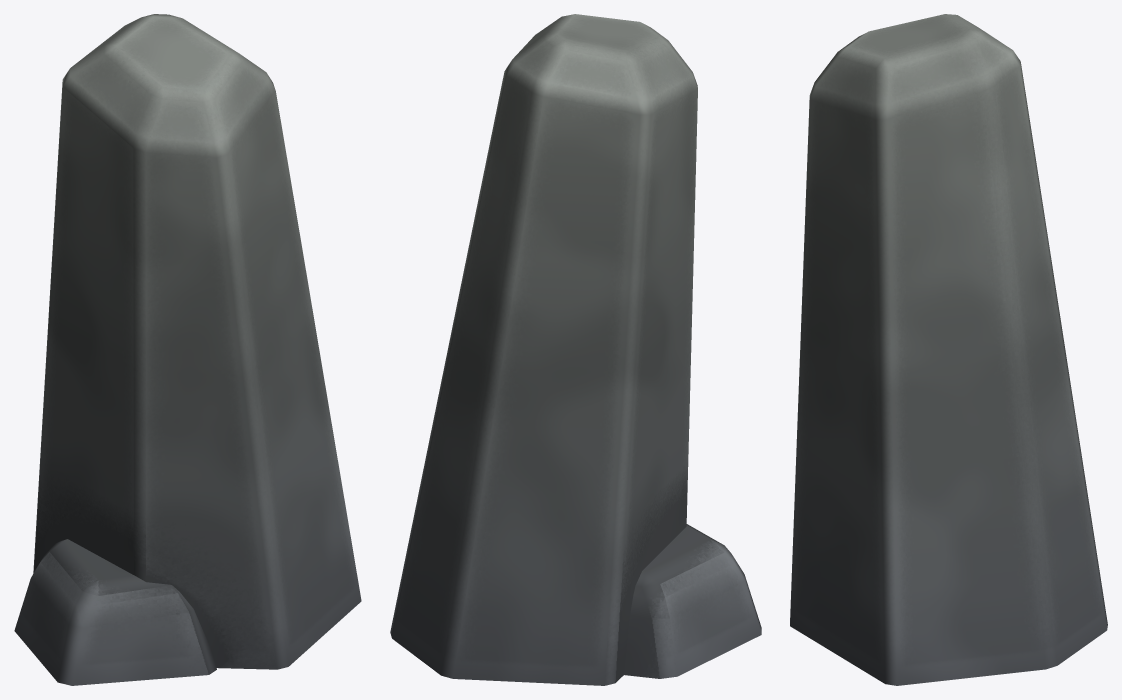
The model's file is standing_stone_3.glb.
The picture shows the model from 3 angles, left to right: view 1: azimuth 30°, elevation 25°; view 2: azimuth 150°, elevation 25°; view 3: azimuth 270°, elevation 25°; orthographic projection. The views are drawn at different scales.
Visible parts, largest first — view 1: standing_stone_3; view 2: standing_stone_3; view 3: standing_stone_3.
Boxes of the visible parts, <box> form: standing_stone_3: <box>14,14,361,685</box>; standing_stone_3: <box>390,14,761,685</box>; standing_stone_3: <box>790,14,1107,685</box>.
Size of the model in its own units: 1 by 1.8 by 0.9.
Materials: 1 (1 with a texture image).
